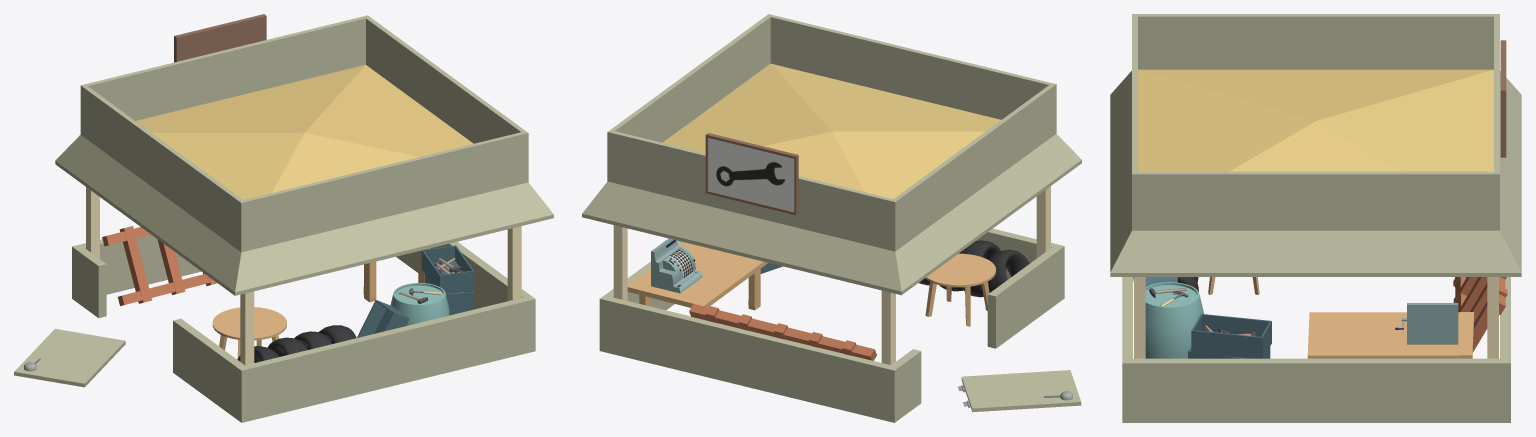
File: kiosk 1.fbx
3 renders of one model, left to right at view 1: azimuth 30°, elevation 25°; view 2: azimuth 150°, elevation 25°; view 3: azimuth 270°, elevation 25°, orthographic. The views are drawn at different scales.
Parts seen in each view (by area): view 1: Cube.028; view 2: Cube.028; view 3: Cube.028.
Boxes of the visible parts, <box> form: Cube.028: <box>14,14,553,422</box>; Cube.028: <box>582,14,1081,422</box>; Cube.028: <box>1110,14,1521,422</box>.
Size of the model in its own units: 652 by 350 by 474.
Materials: 3 (3 with a texture image).
